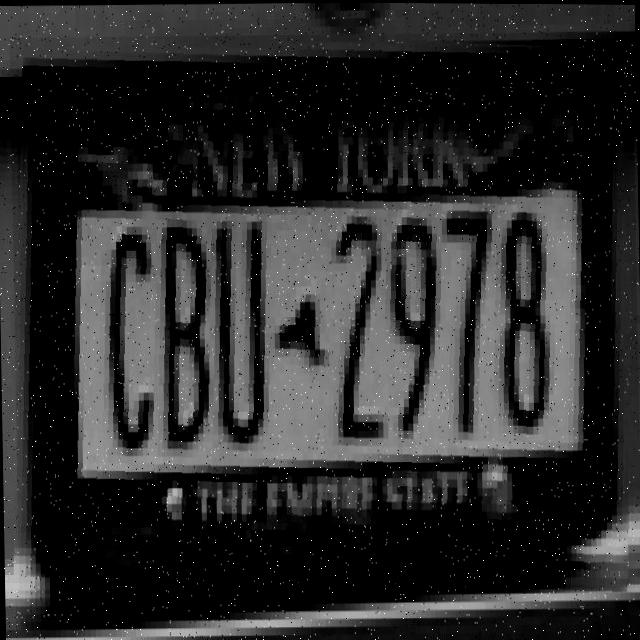LicensePlate: (9, 27, 640, 597)
